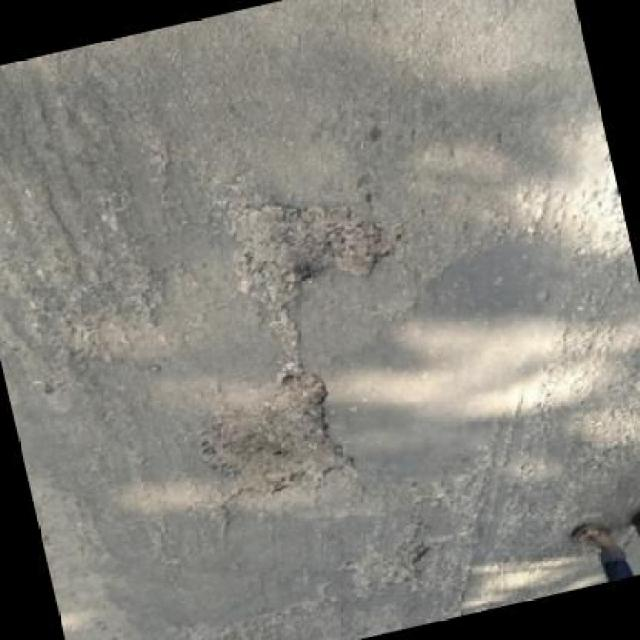pothole1: (181, 360, 354, 514), (220, 166, 391, 319)
